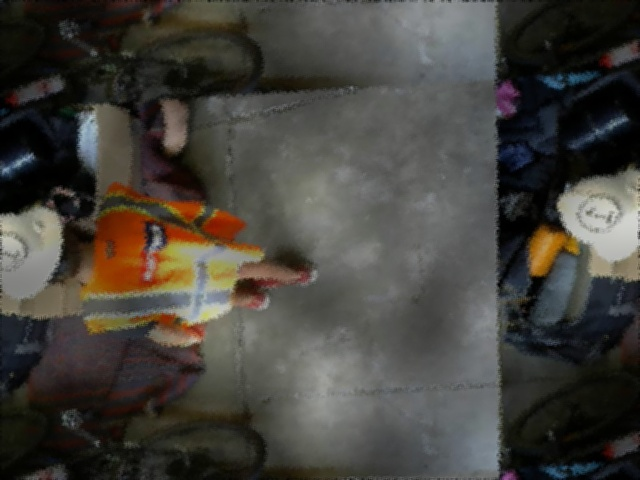one: (0, 232, 24, 270)
